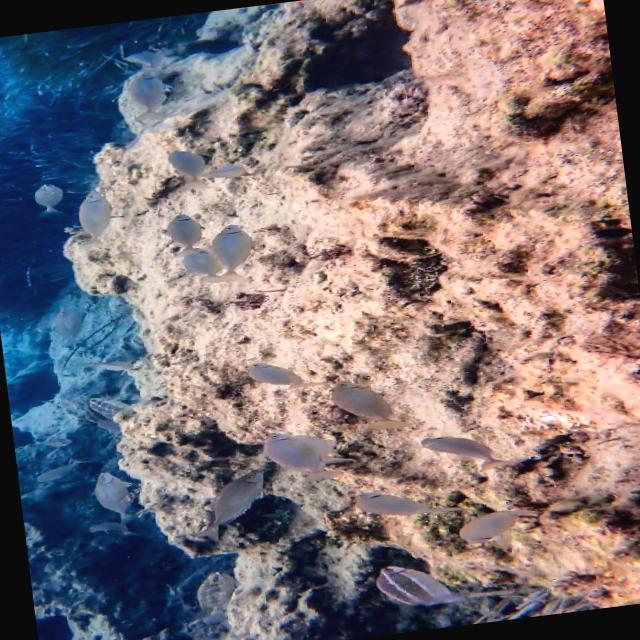Sokar Baligi: (363, 546, 495, 621), (316, 366, 414, 441), (410, 421, 522, 482), (108, 60, 181, 128), (68, 172, 120, 256)
